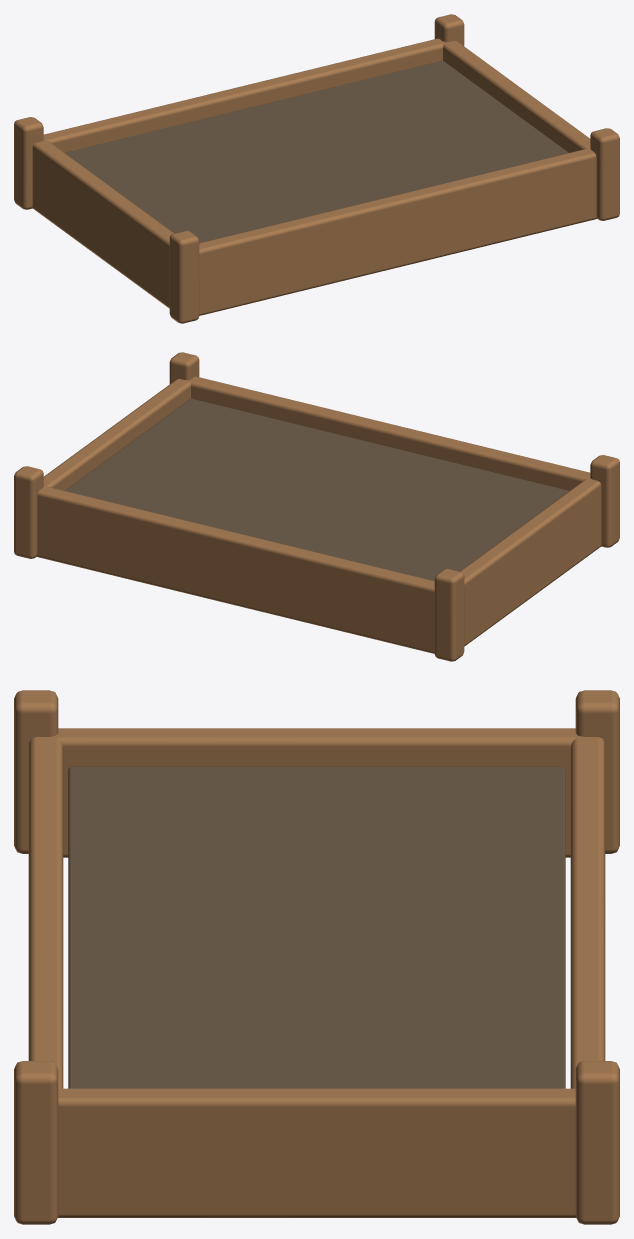
Rendered from almanac-gardens-raised-bed-7d92f974__22021.glb.
3 renders of one model, top to bottom at view 1: azimuth 30°, elevation 25°; view 2: azimuth 150°, elevation 25°; view 3: azimuth 270°, elevation 25°, orthographic. The views are drawn at different scales.
Visible parts, largest first — view 1: raised-bed-oak, raised-bed-soil; view 2: raised-bed-oak, raised-bed-soil; view 3: raised-bed-soil, raised-bed-oak.
Part boxes in pixels (left/top/right/bottom): raised-bed-oak: left=14, top=14, right=619, bottom=323; raised-bed-soil: left=65, top=60, right=568, bottom=242; raised-bed-oak: left=14, top=352, right=619, bottom=661; raised-bed-soil: left=65, top=398, right=568, bottom=580; raised-bed-soil: left=68, top=766, right=565, bottom=1088; raised-bed-oak: left=14, top=690, right=619, bottom=1224.
Size of the model in its own units: 1.87 by 0.3399 by 1.23.
